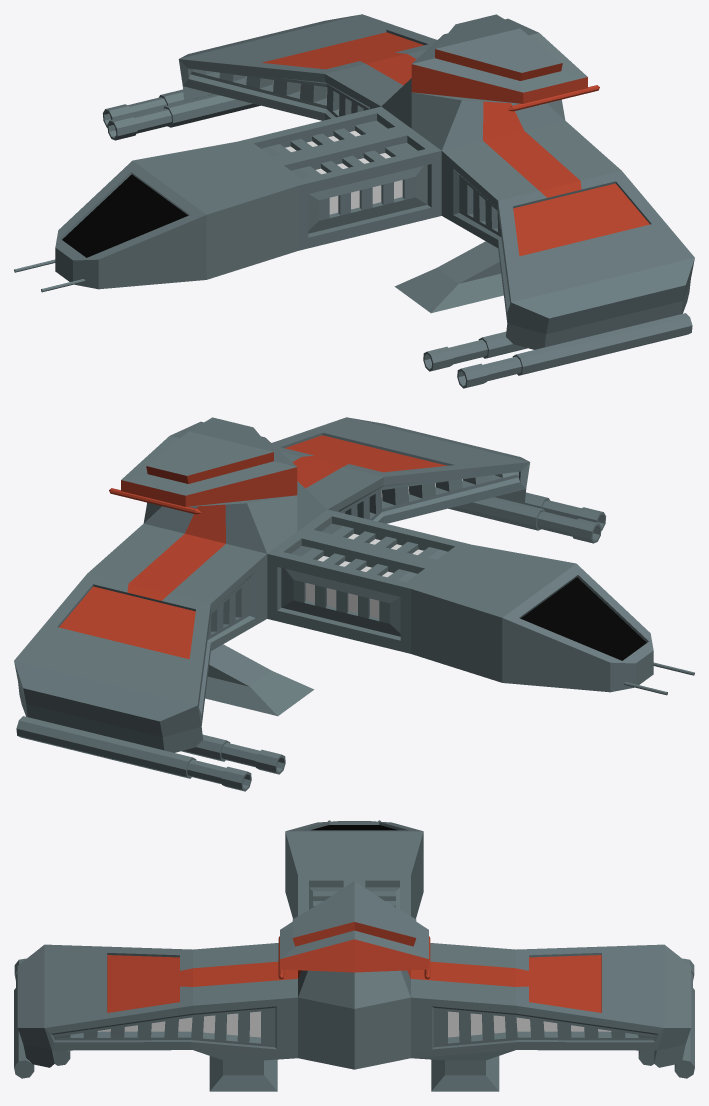
File: SmolShip.fbx
The picture shows the model from 3 angles, top to bottom: view 1: azimuth 30°, elevation 25°; view 2: azimuth 150°, elevation 25°; view 3: azimuth 270°, elevation 25°; orthographic projection. The views are drawn at different scales.
Visible parts, largest first — view 1: SpaceShip.002; view 2: SpaceShip.002; view 3: SpaceShip.002.
Part boxes in pixels (left/top/right/bottom): SpaceShip.002: left=14, top=14, right=694, bottom=388; SpaceShip.002: left=14, top=417, right=694, bottom=791; SpaceShip.002: left=14, top=820, right=694, bottom=1091.
Bounding box in the file's own units: 12.44 × 4.18 × 14.78.
Materials: 2 (1 with a texture image).
